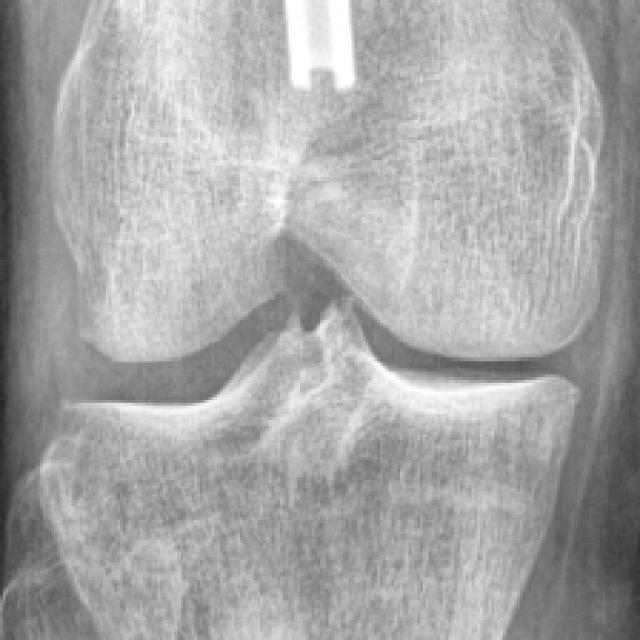femur: (51, 0, 605, 361)
tibia: (38, 295, 580, 640)
